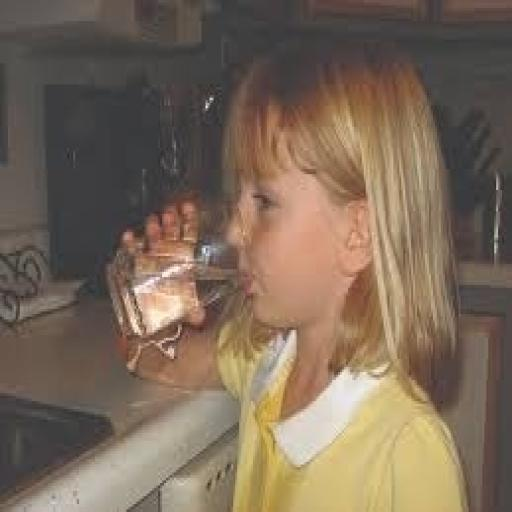drinking: (86, 85, 512, 488)
